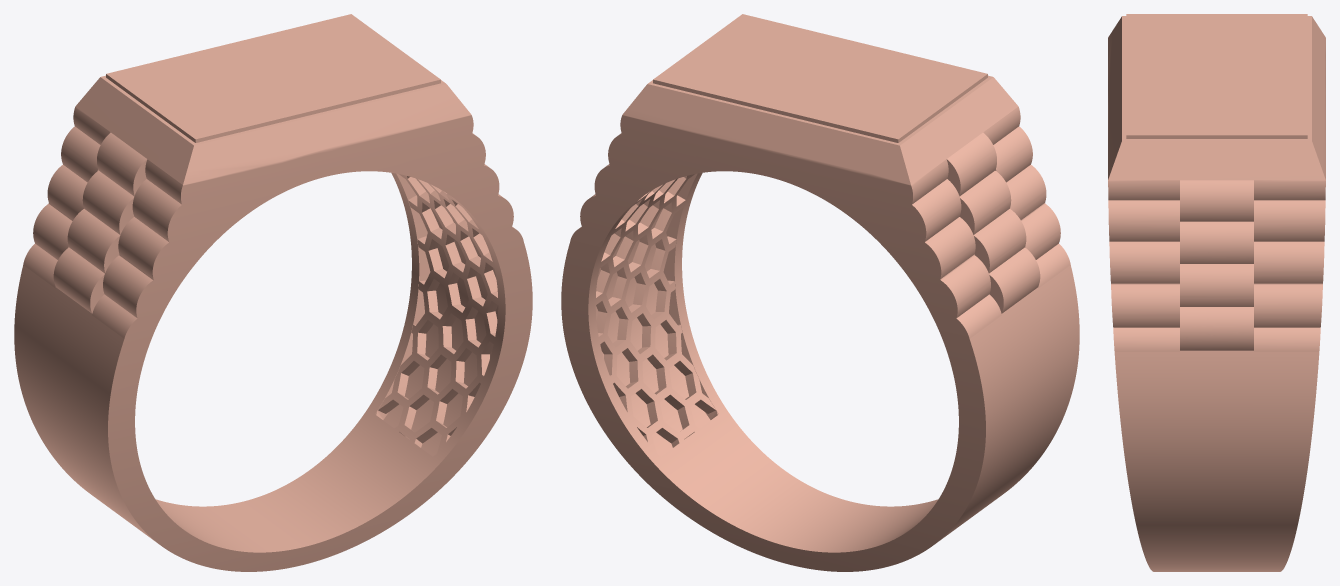
File: ring.glb
3 views of the same model, side by side, from view 1: azimuth 30°, elevation 25°; view 2: azimuth 150°, elevation 25°; view 3: azimuth 270°, elevation 25° (orthographic).
Parts seen in each view (by area): view 1: MEN_RING; view 2: MEN_RING; view 3: MEN_RING.
Part boxes in pixels (x1,y1,x2,y2): MEN_RING: [14, 14, 532, 571]; MEN_RING: [561, 14, 1079, 571]; MEN_RING: [1108, 14, 1325, 571].
Size of the model in its own units: 2.35 by 2.48 by 1.03.
